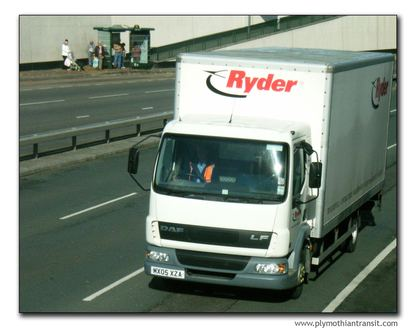truck: (142, 23, 401, 305)
